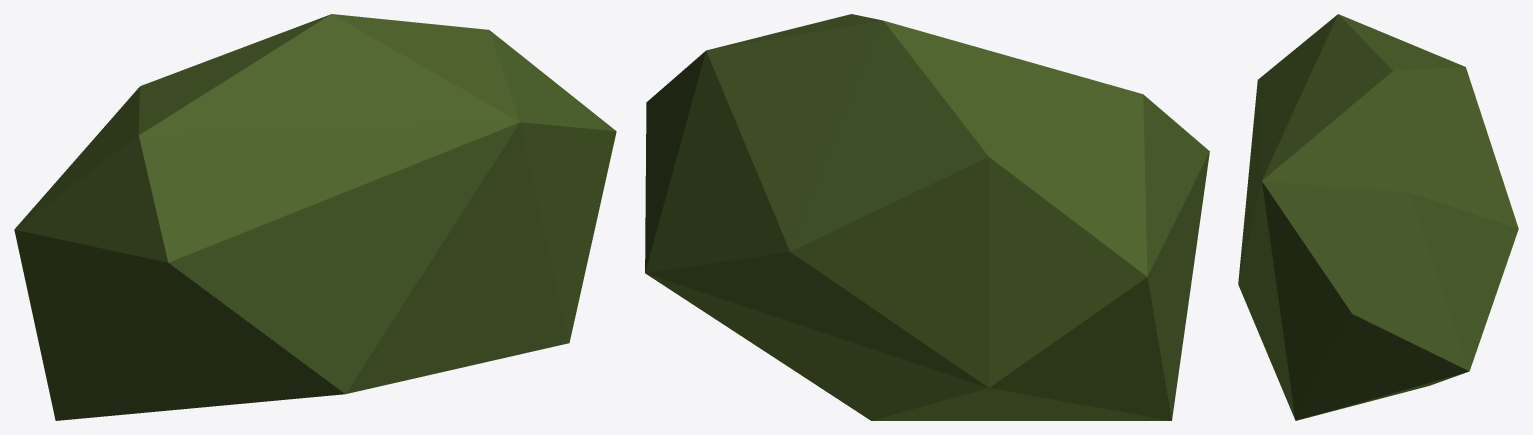
Rendered from Bush_1.fbx.
The picture shows the model from 3 angles, left to right: view 1: azimuth 30°, elevation 25°; view 2: azimuth 150°, elevation 25°; view 3: azimuth 270°, elevation 25°; orthographic projection. The views are drawn at different scales.
Visible parts, largest first — view 1: Bush_1; view 2: Bush_1; view 3: Bush_1.
Part boxes in pixels (box(x1,y1,x2,y2)): Bush_1: box(14, 14, 616, 420); Bush_1: box(645, 14, 1209, 420); Bush_1: box(1238, 14, 1518, 420).
Bounding box in the file's own units: 255 × 169 × 135.
